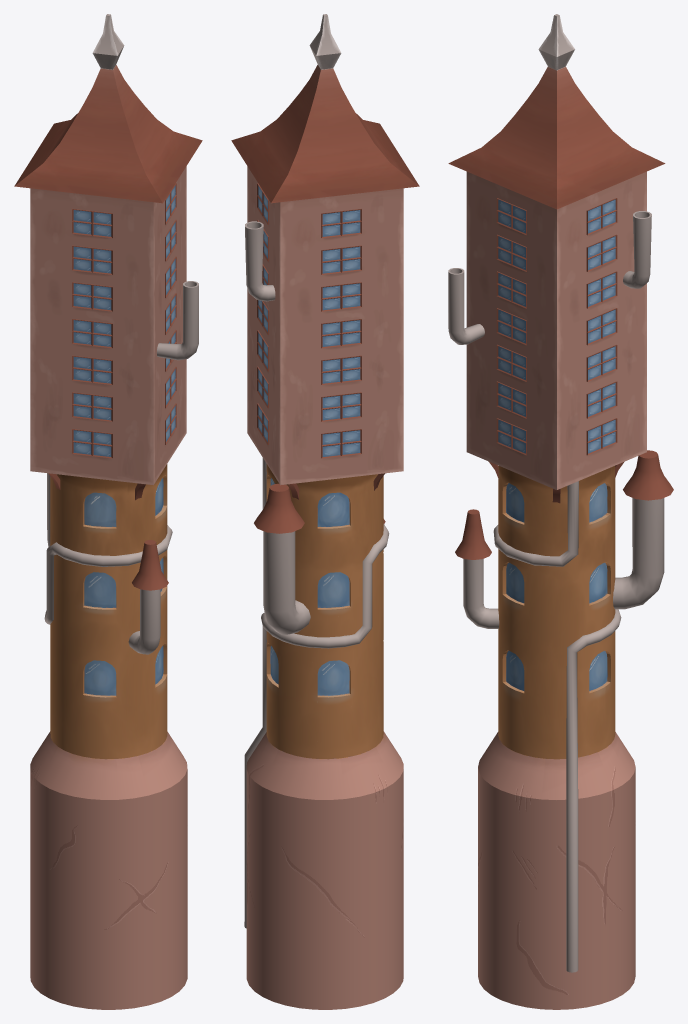
Rendered from tower.fbx.
3 renders of one model, left to right at view 1: azimuth 30°, elevation 25°; view 2: azimuth 150°, elevation 25°; view 3: azimuth 270°, elevation 25°, orthographic.
Parts seen in each view (by area): view 1: Plane.030; view 2: Plane.030; view 3: Plane.030.
Part boxes in pixels (x1,y1,x2,y2): Plane.030: [14, 14, 202, 1009]; Plane.030: [231, 14, 419, 1009]; Plane.030: [448, 14, 673, 1009].
Size of the model in its own units: 210 by 1022 by 218.
